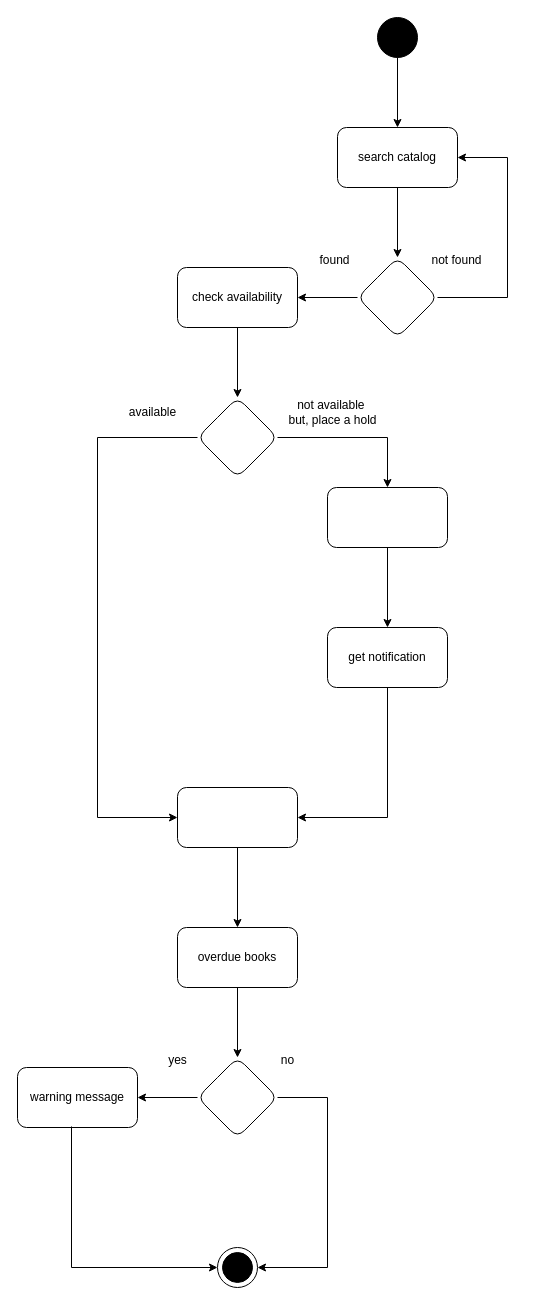
This 533x1305 diagram has some shape labels left out. The shapes that lost their labels are listed below. From the top down, each one's centre as x and y in pixels, then its label:
the point at 387,517: hold place
the point at 237,817: checkout book
